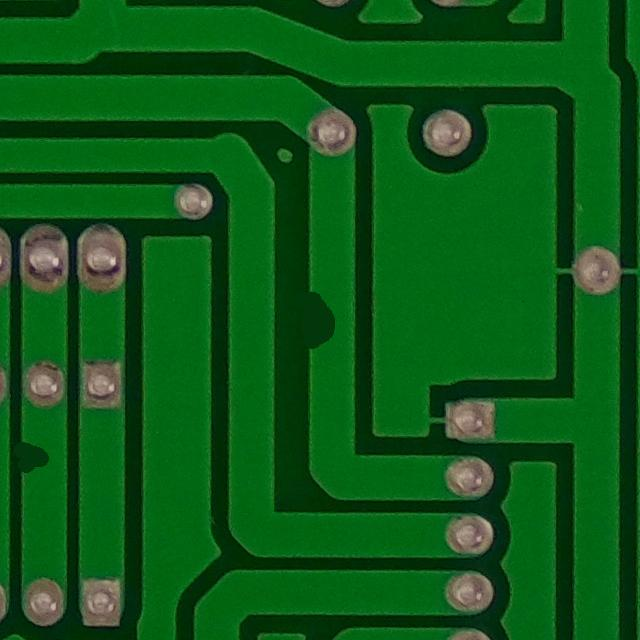mouse_bite: (287, 271, 354, 369)
